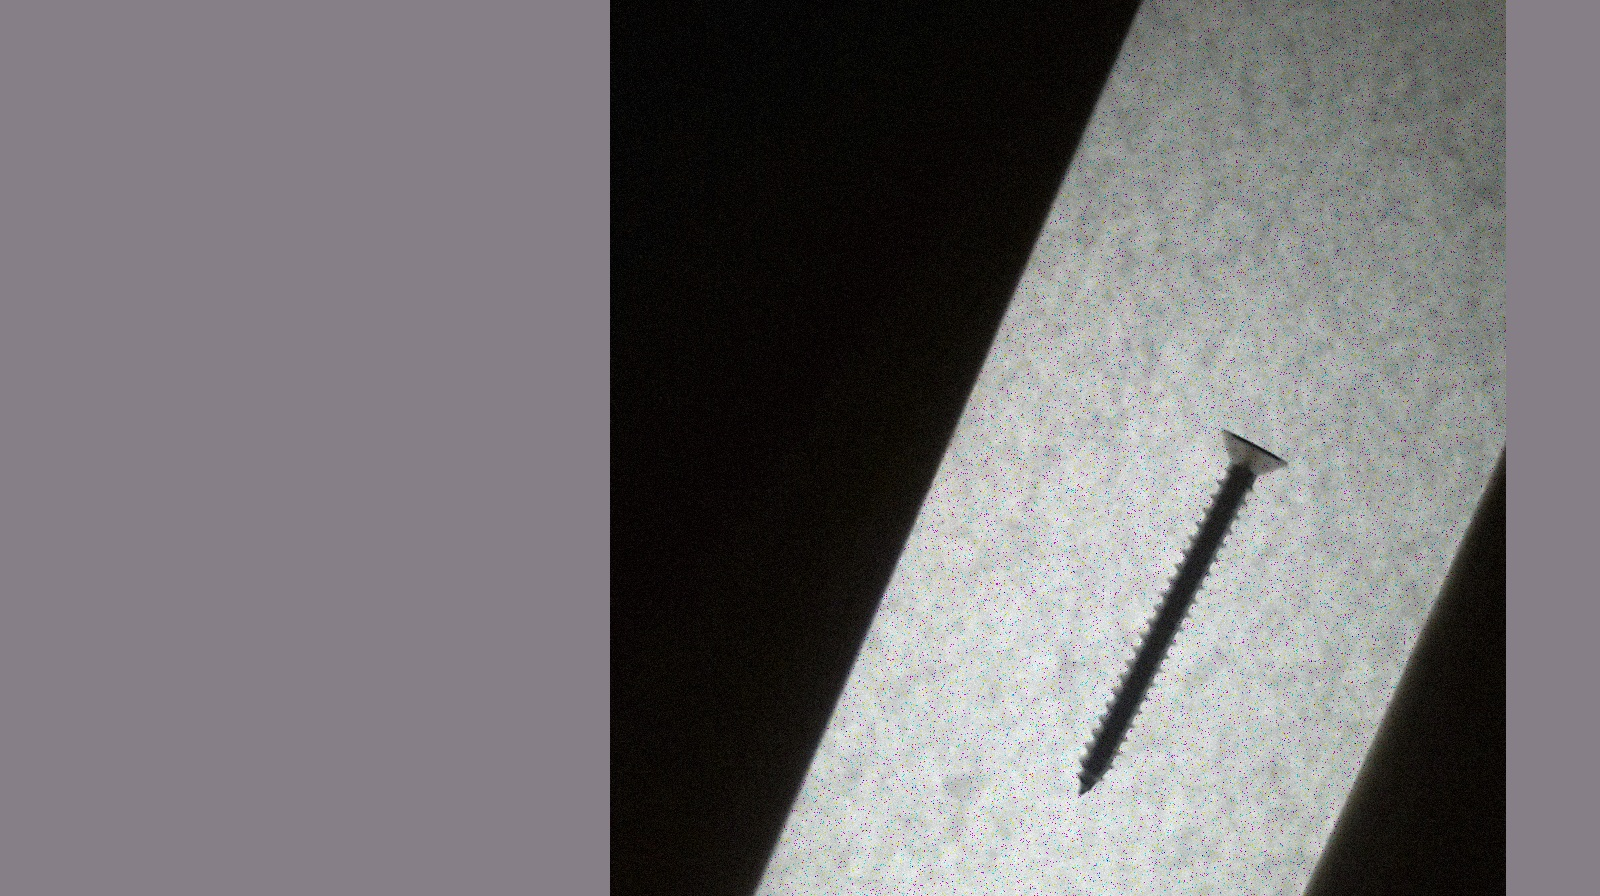S002: (1029, 397, 1300, 823)
